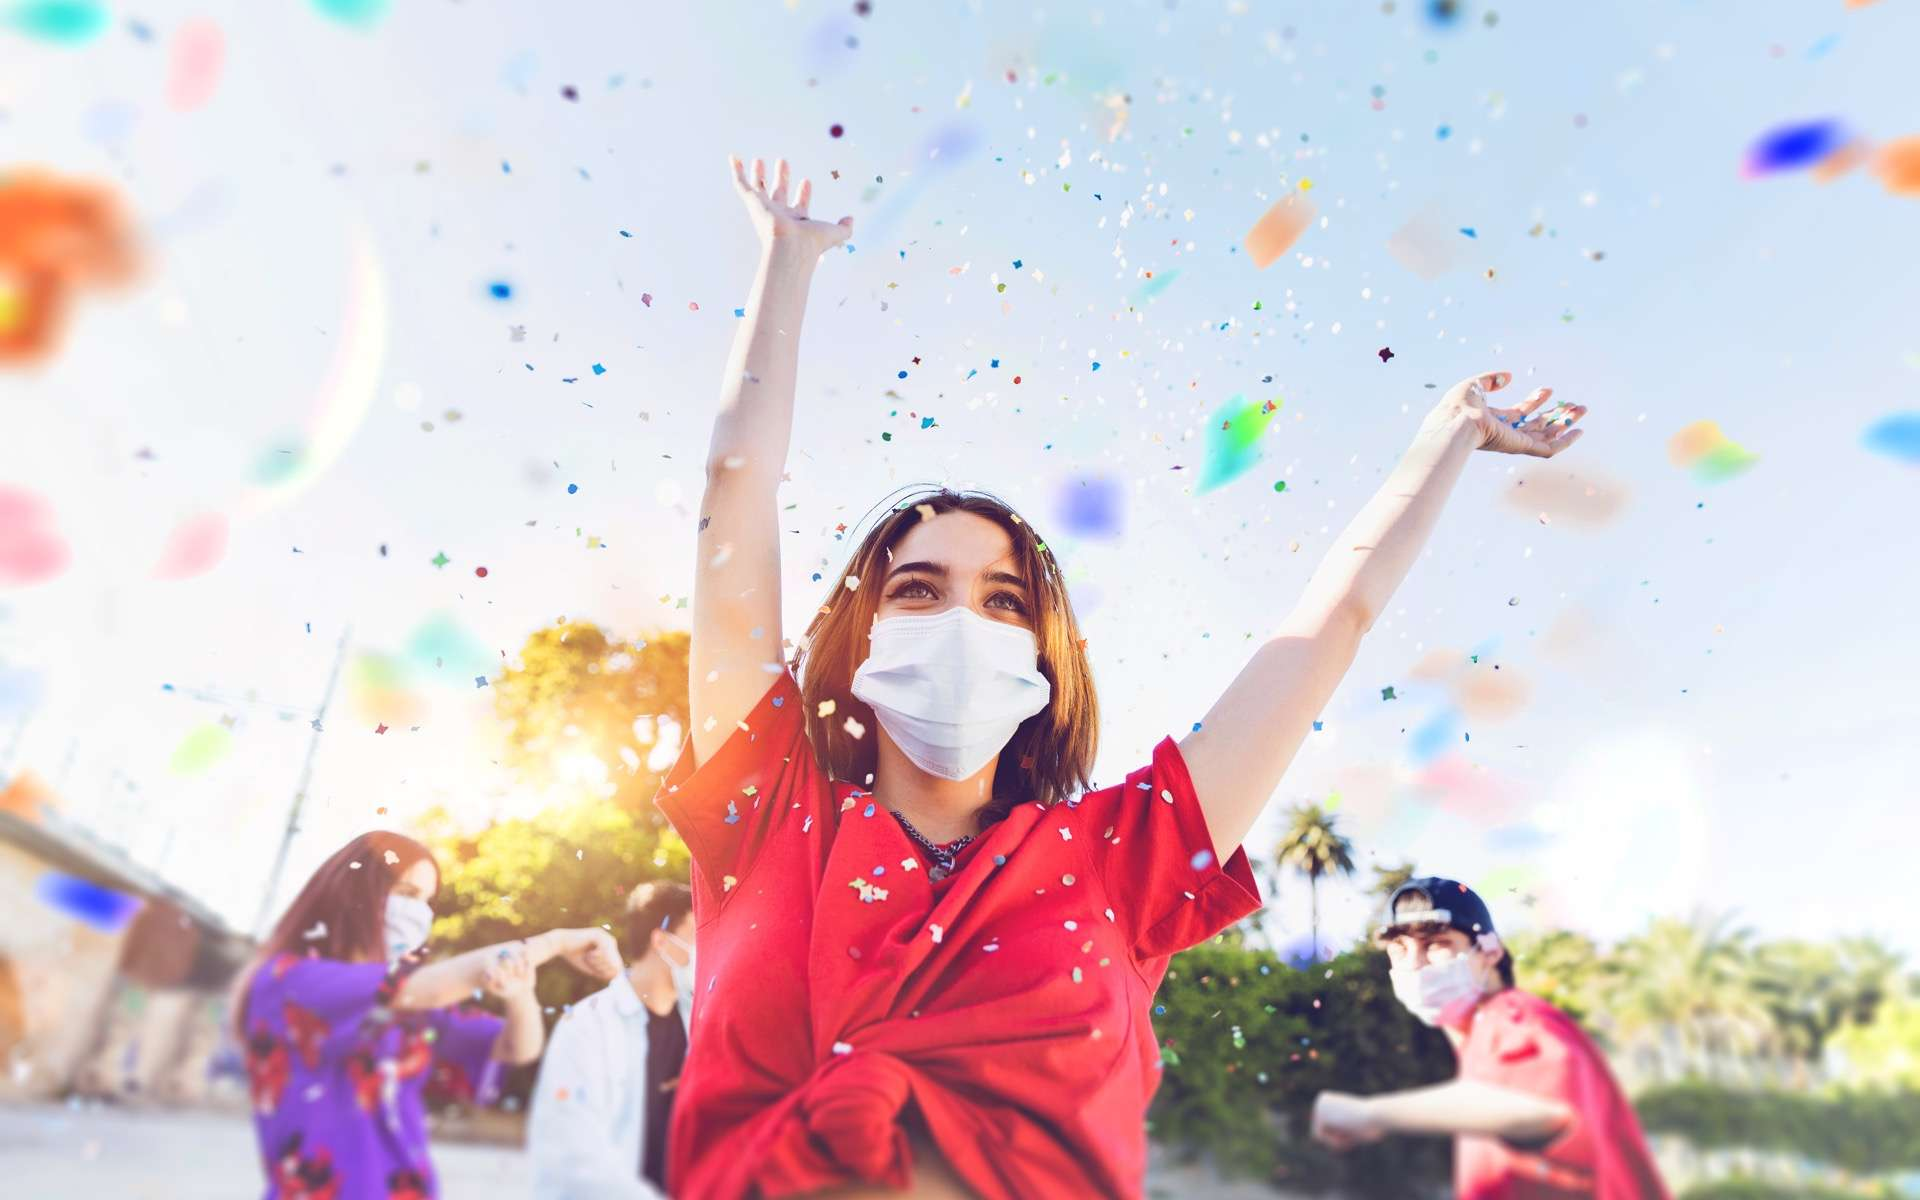with_mask: (866, 560, 1028, 770), (1389, 919, 1477, 1020), (373, 870, 437, 955)
